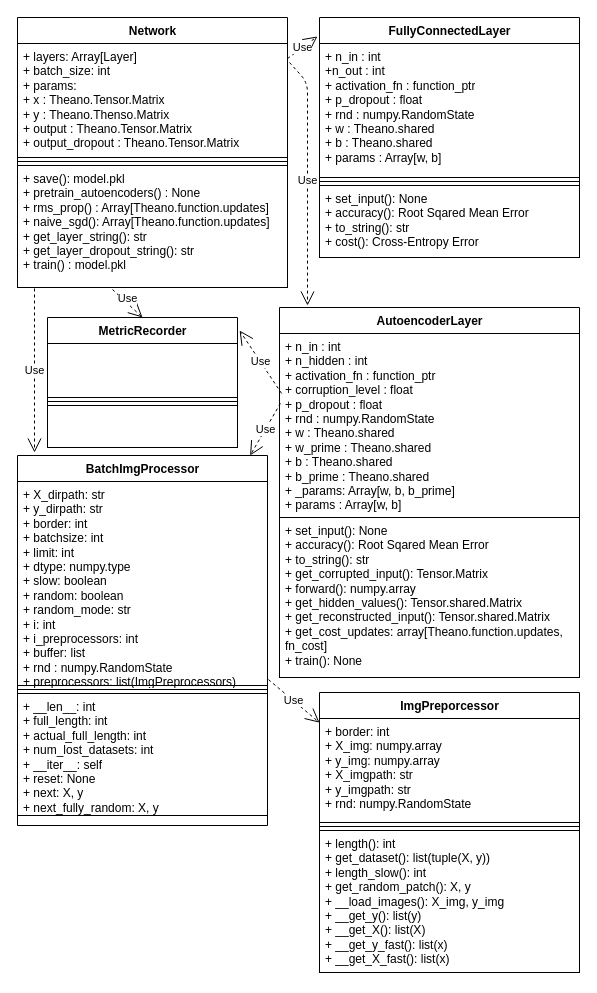
Image size: 597x993. Some labels were removed from this diagram. The centre of each missing label's shape, as x and y in pixels:
"+ job_id: int + options: dict + db: Pymongo.MongoClient" belongs at point (142, 370).
"+ record(): None +__connect(): Array[collections]" belongs at point (142, 426).
